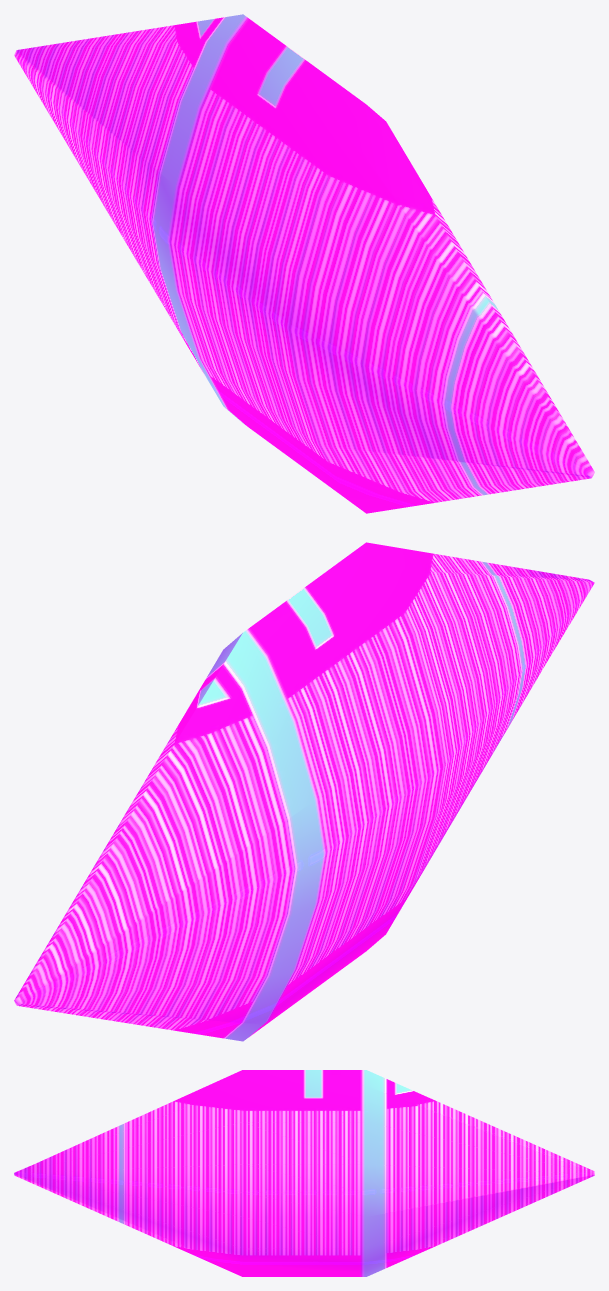
Rendered from POD_R.glb.
The picture shows the model from 3 angles, top to bottom: view 1: azimuth 30°, elevation 25°; view 2: azimuth 150°, elevation 25°; view 3: azimuth 270°, elevation 25°; orthographic projection. The views are drawn at different scales.
Parts seen in each view (by area): view 1: POD_R_02_LITE; view 2: POD_R_02_LITE; view 3: POD_R_02_LITE.
Boxes of the visible parts, x1,y1,x2,y2 form: POD_R_02_LITE: [14, 14, 594, 513]; POD_R_02_LITE: [14, 542, 594, 1041]; POD_R_02_LITE: [14, 1070, 594, 1276].
Bounding box in the file's own units: 0.44 × 1.1 × 2.8.
1 material, 1 textured.
